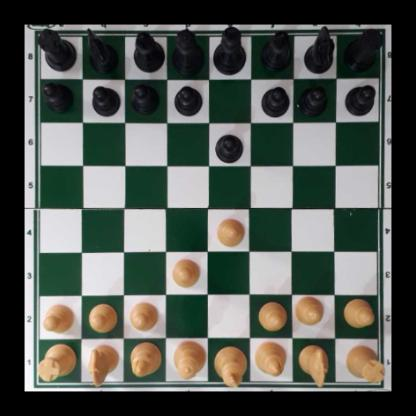black-bishop: (132, 29, 165, 71), (259, 29, 292, 71)
black-king: (213, 27, 246, 74)
black-knight: (86, 26, 117, 75), (304, 25, 333, 74)
black-pawn: (345, 84, 376, 117), (42, 81, 73, 112), (214, 130, 244, 162), (174, 84, 203, 116), (130, 83, 159, 114), (299, 84, 327, 116), (92, 84, 119, 116), (261, 87, 288, 117)
black-queen: (172, 29, 205, 75)
black-rook: (37, 25, 77, 71), (343, 29, 381, 71)
white-bishop: (255, 339, 286, 377), (130, 340, 160, 376)
white-king: (214, 344, 244, 388)
white-knight: (299, 342, 329, 387), (89, 343, 118, 386)
white-pawn: (40, 303, 75, 333), (343, 298, 375, 328), (129, 300, 159, 331), (171, 257, 201, 287), (295, 296, 324, 326), (215, 217, 245, 246), (87, 302, 116, 331), (257, 301, 286, 330)
white-queen: (170, 339, 208, 378)
white-rook: (36, 343, 77, 381), (345, 345, 385, 383)
